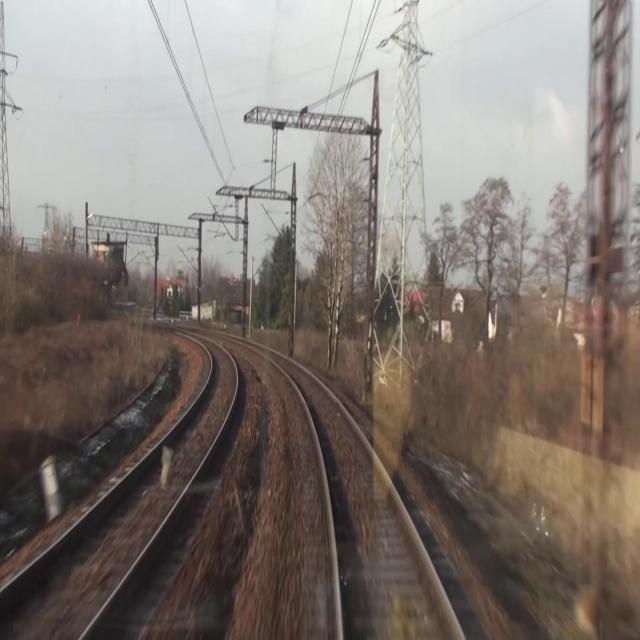rail-track: (0, 339, 235, 639), (262, 349, 462, 639)
